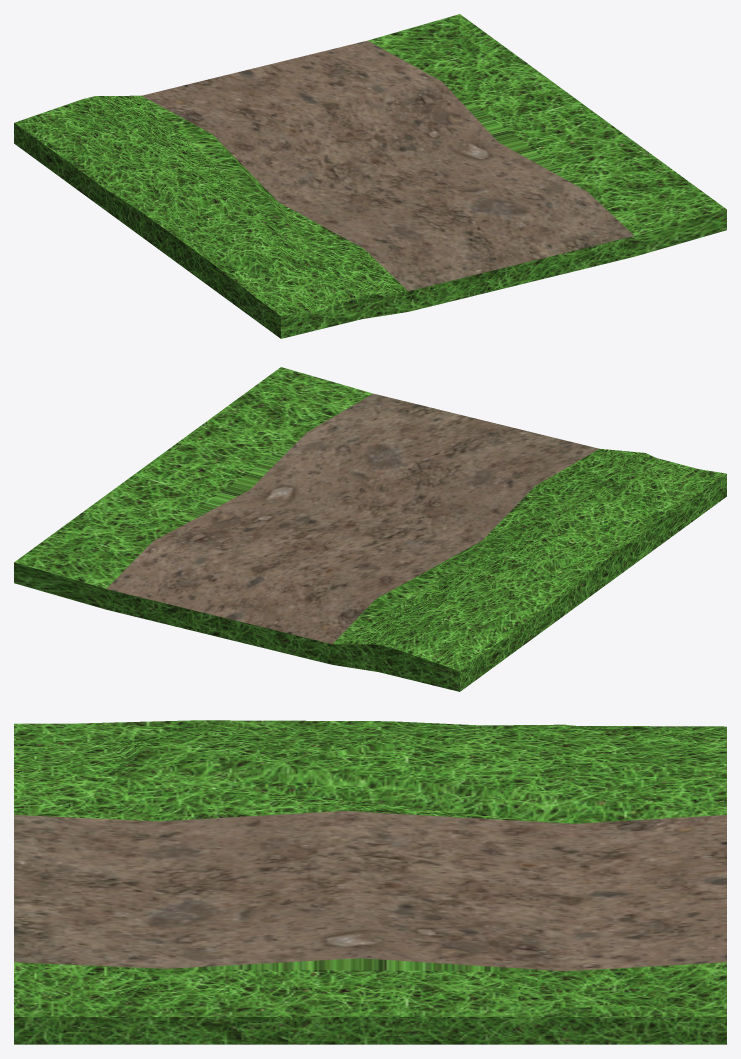
File: ground2.fbx
3 renders of one model, top to bottom at view 1: azimuth 30°, elevation 25°; view 2: azimuth 150°, elevation 25°; view 3: azimuth 270°, elevation 25°, orthographic. The views are drawn at different scales.
Parts seen in each view (by area): view 1: pCube1; view 2: pCube1; view 3: pCube1.
Part boxes in pixels (box(x1,y1,x2,y2)): pCube1: box(14, 14, 726, 338); pCube1: box(14, 367, 726, 691); pCube1: box(14, 720, 726, 1044).
Bounding box in the file's own units: 22.57 × 1.85 × 23.41.
Materials: 2 (2 with a texture image).
